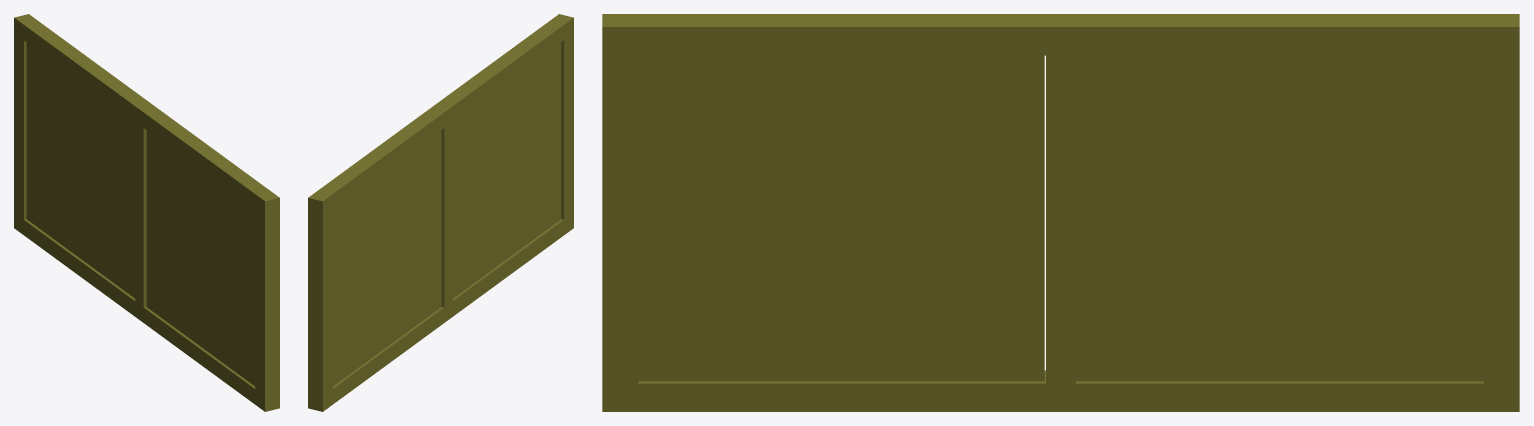
File: Childrens_Room_Window.fbx
3 views of the same model, side by side, from view 1: azimuth 30°, elevation 25°; view 2: azimuth 150°, elevation 25°; view 3: azimuth 270°, elevation 25° (orthographic). The views are drawn at different scales.
Parts seen in each view (by area): view 1: Childrens_Room_Window; view 2: Childrens_Room_Window; view 3: Childrens_Room_Window.
Boxes of the visible parts, x1,y1,x2,y2 form: Childrens_Room_Window: (14,14,279,411); Childrens_Room_Window: (308,14,573,411); Childrens_Room_Window: (602,14,1519,411).
Bounding box in the file's own units: 11.96 × 163 × 352.
